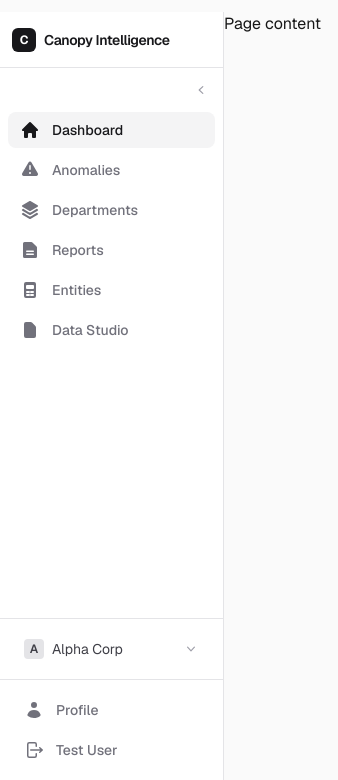
AnalyticsSidebarTenantSwitcher › shows error message on switch failure
What coordinates should you click on to do the following:
click the text "Alpha Corp"
I would click on:
 (87, 649)
Its box is [52,639,123,659].
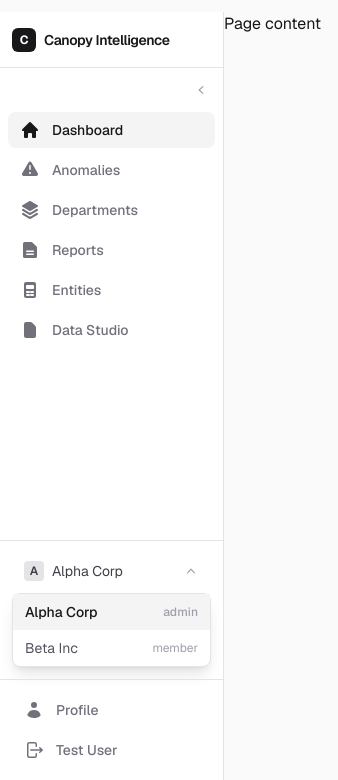
What coordinates should you click on to do the following:
click the text "Beta Inc"
I would click on:
 (52, 648)
Its box is [25,638,78,658].
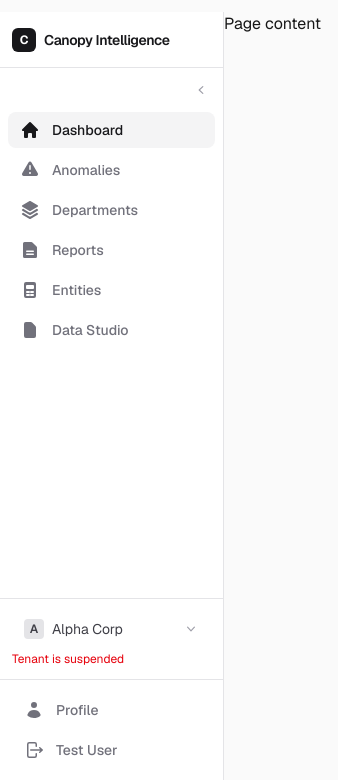
Result: the message reads "Tenant is suspended" at [12,651,124,667]
